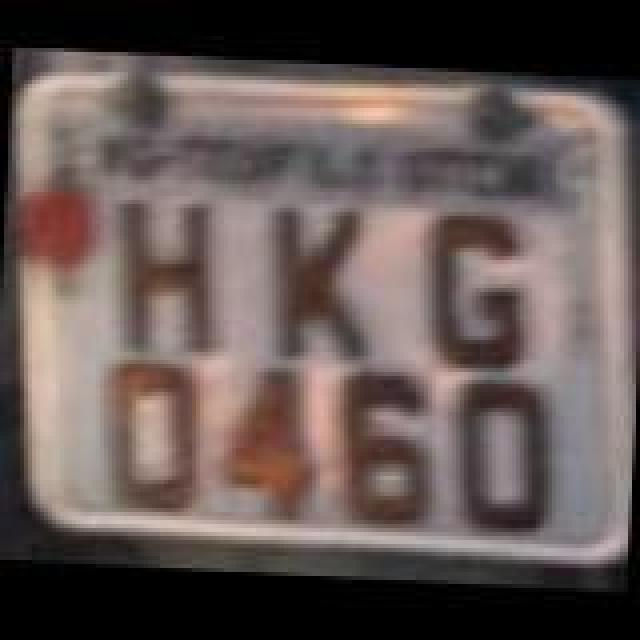4: (220, 362, 324, 518)
6: (336, 370, 448, 534)
G: (424, 214, 536, 370)
H: (112, 192, 224, 368)
K: (268, 200, 388, 360)
O: (450, 376, 558, 536), (102, 362, 210, 510)
